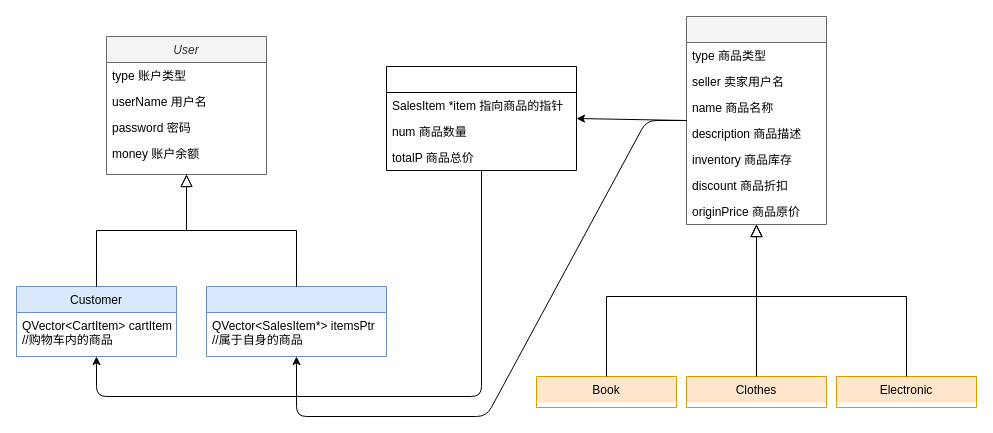
Some shapes in this 993 by 433 pixel diagram are drawn without their labels. The box of each missing label's shape, as (x1, y1, x2, y2) in pixels:
CartItem: (386, 66, 576, 170)
SalesItem: (686, 16, 826, 224)
Seller: (206, 286, 386, 356)
